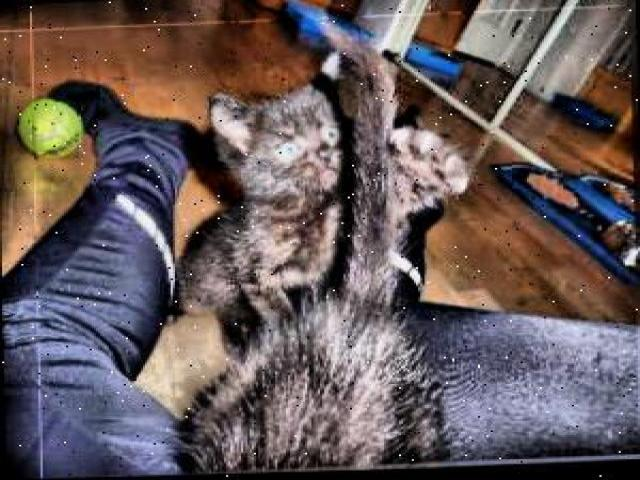tennis-ball: (18, 99, 83, 156)
